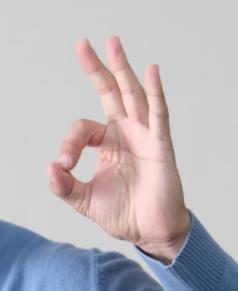left: (42, 32, 185, 244)
